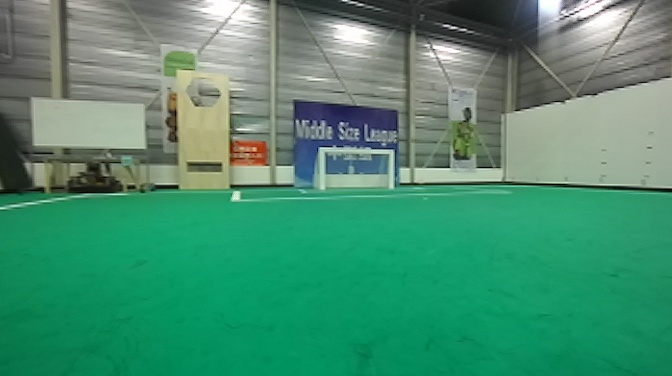goalpost: (382, 147, 397, 195), (314, 144, 327, 193)
